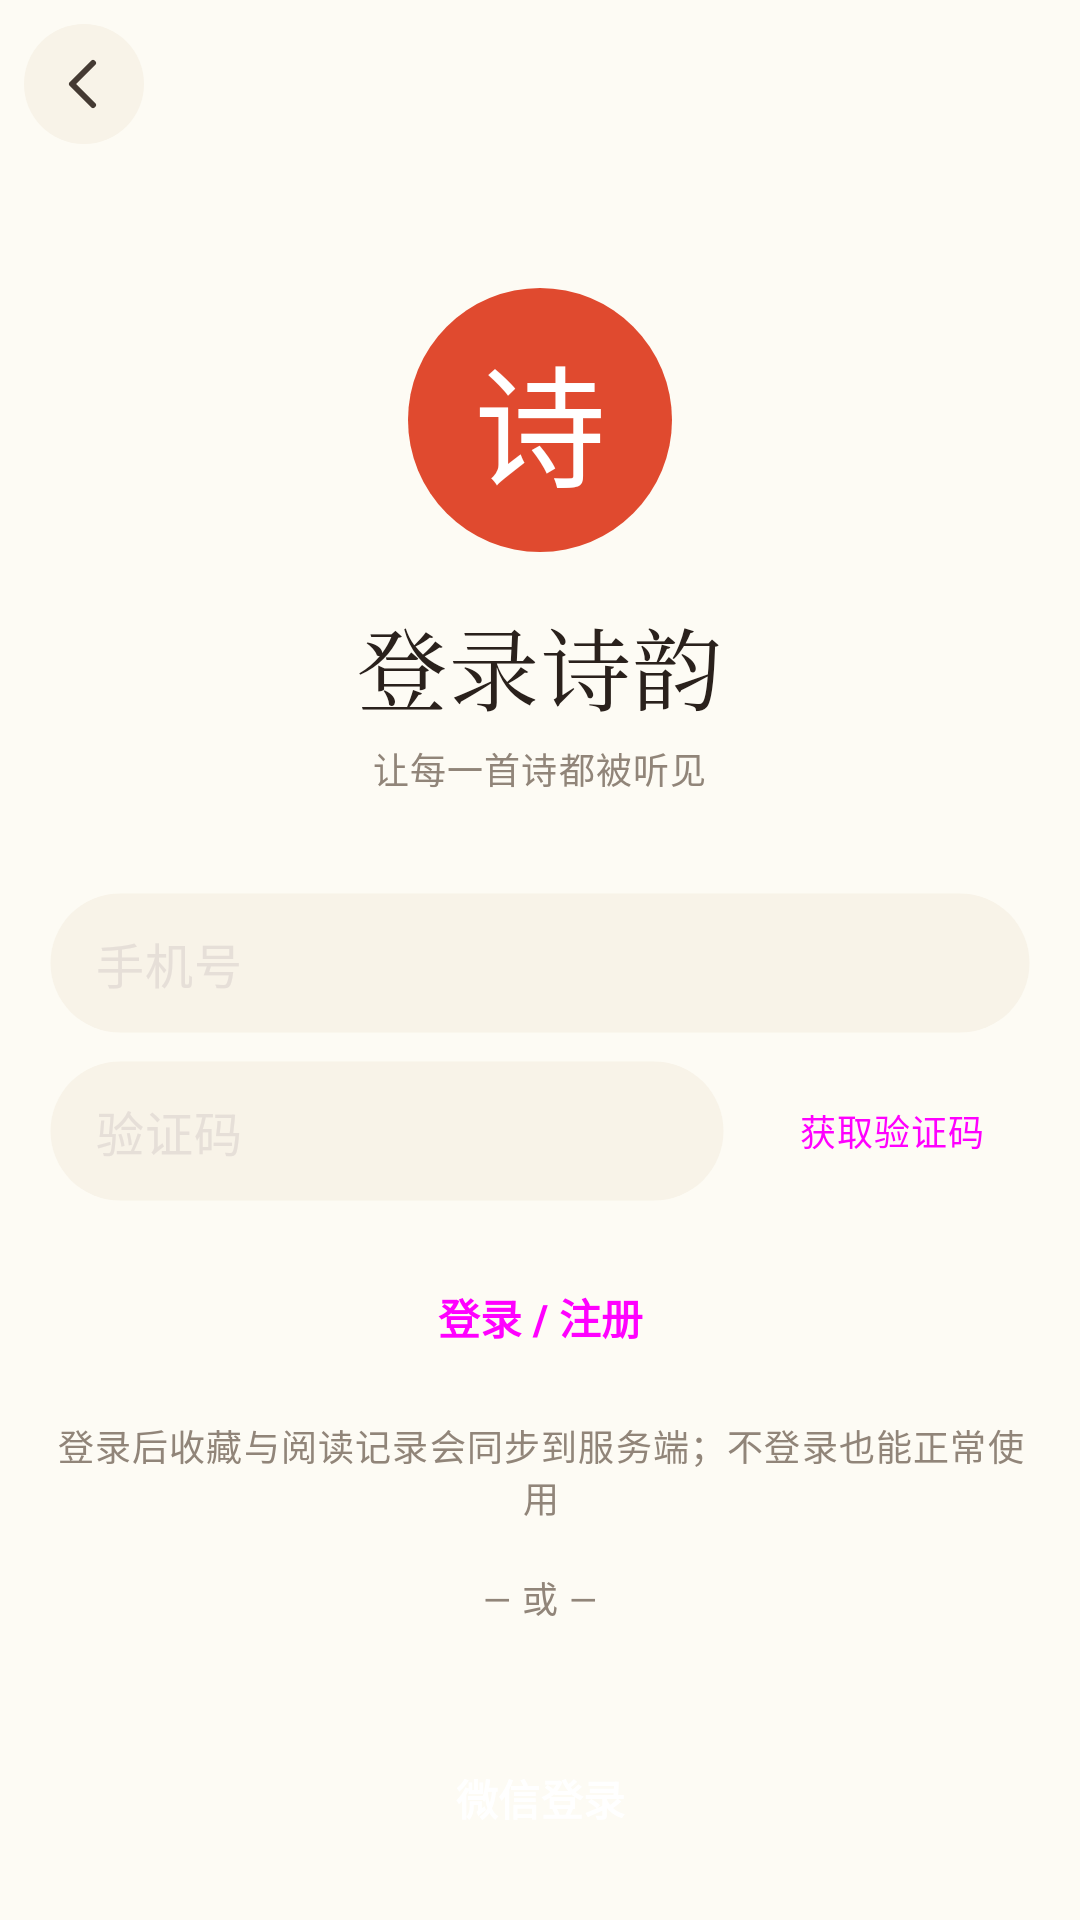

Named icons in this screenshot (1080x1920) and their bounding boxes, bbox(x1, y1, x2, y2):
返回: bbox(24, 24, 144, 144)
